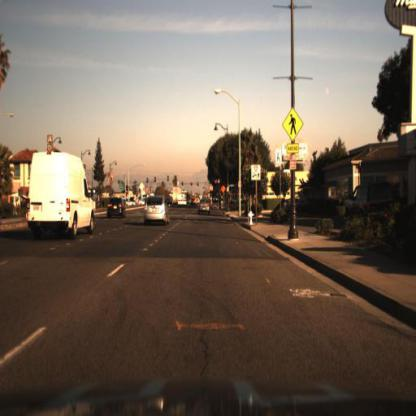car: (25, 148, 96, 245), (342, 180, 396, 220), (142, 193, 170, 225), (106, 195, 127, 219), (197, 192, 214, 215), (177, 192, 191, 213), (186, 192, 197, 212)
truck: (27, 151, 96, 239), (176, 186, 186, 211)
